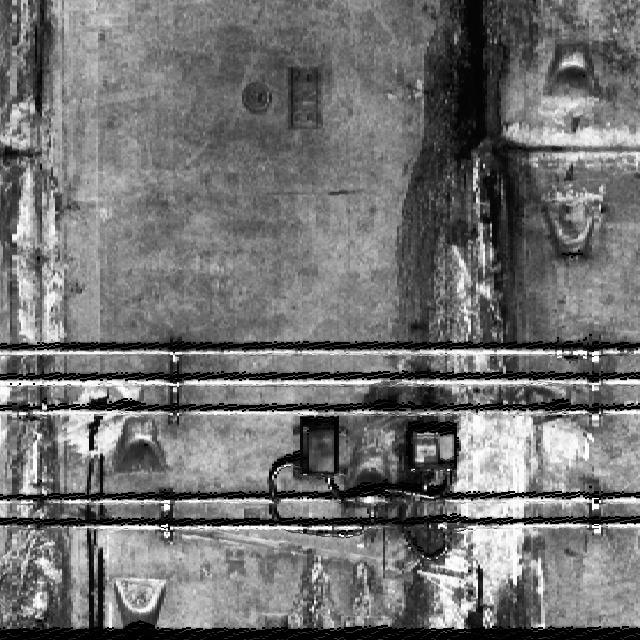leakage: (375, 1, 563, 639), (0, 0, 116, 630)
